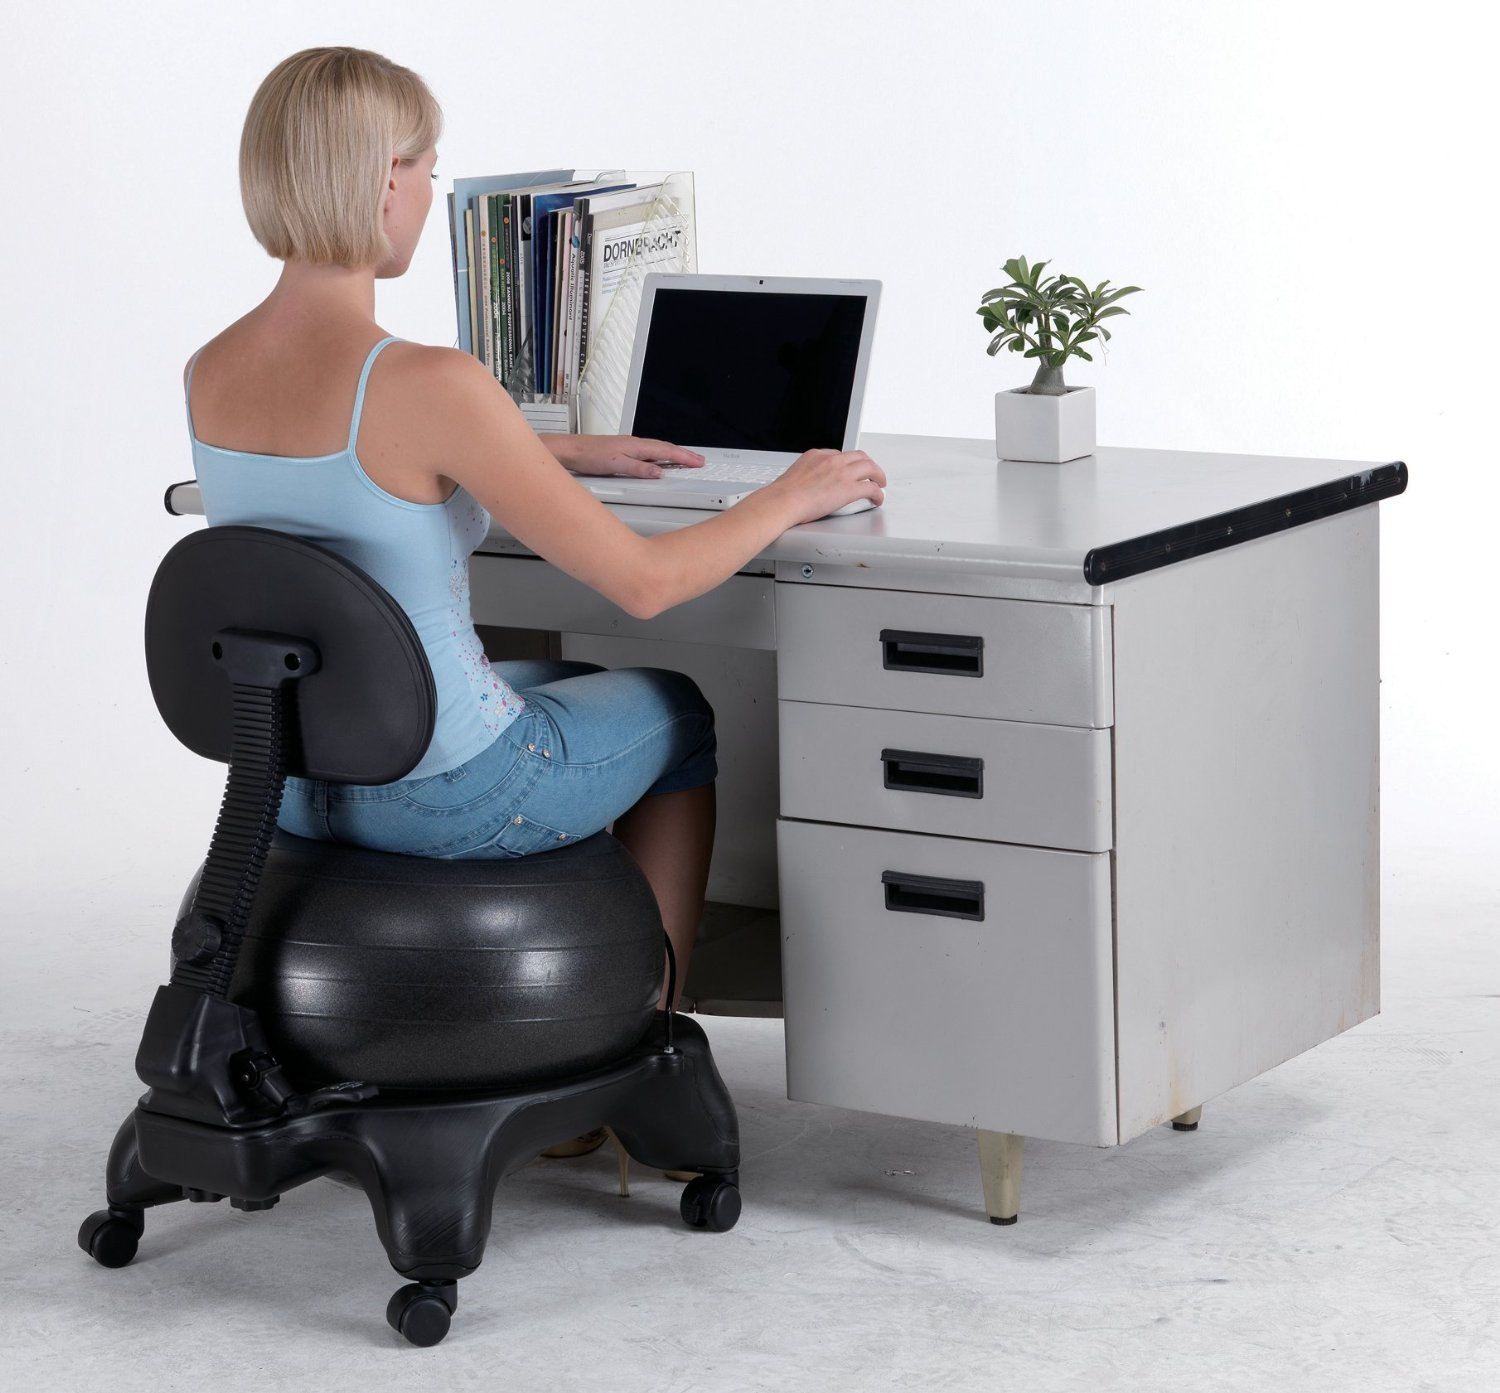yogaball: (137, 821, 682, 1104)
